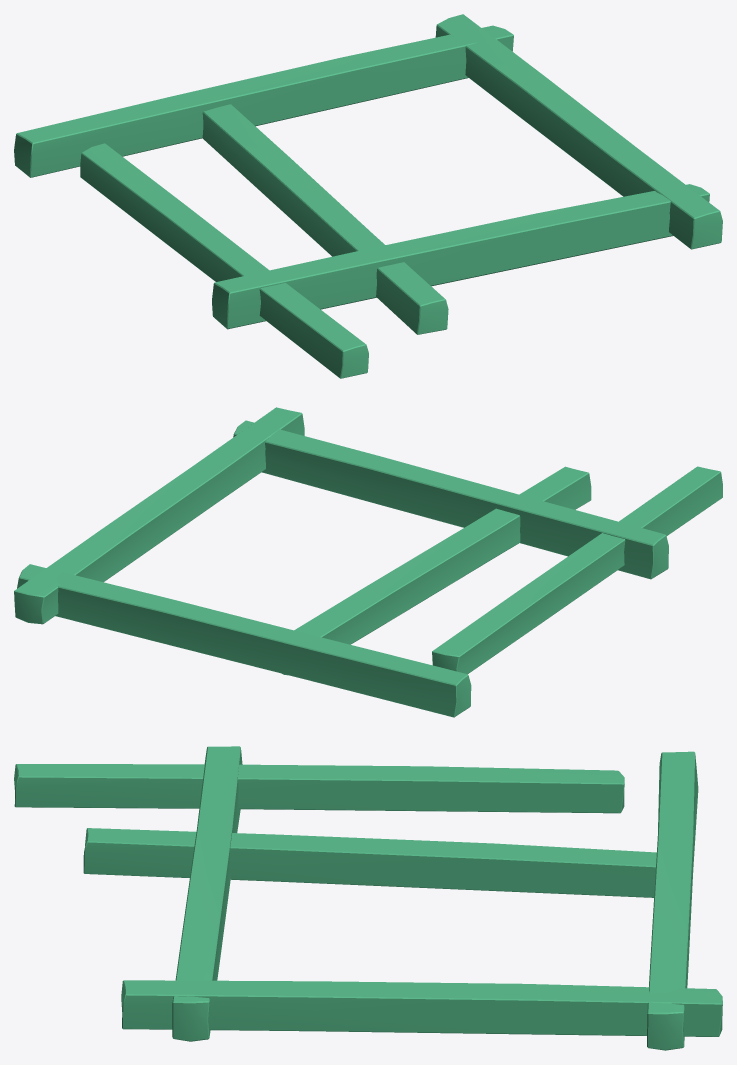
File: Floor_Hole_01_Beam_Lod0.fbx
The picture shows the model from 3 angles, top to bottom: view 1: azimuth 30°, elevation 25°; view 2: azimuth 150°, elevation 25°; view 3: azimuth 270°, elevation 25°; orthographic projection. The views are drawn at different scales.
Parts seen in each view (by area): view 1: Floor_Hole_01_Beam_Lod0; view 2: Floor_Hole_01_Beam_Lod0; view 3: Floor_Hole_01_Beam_Lod0.
Boxes of the visible parts, left/top/right/bottom form: Floor_Hole_01_Beam_Lod0: left=14, top=14, right=722, bottom=378; Floor_Hole_01_Beam_Lod0: left=14, top=407, right=722, bottom=717; Floor_Hole_01_Beam_Lod0: left=14, top=746, right=722, bottom=1050.
Bounding box in the file's own units: 309 × 23.88 × 351.
